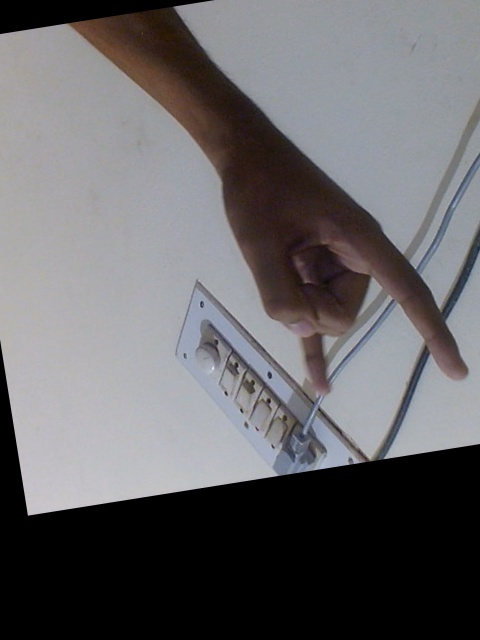hand: (193, 145, 472, 395)
